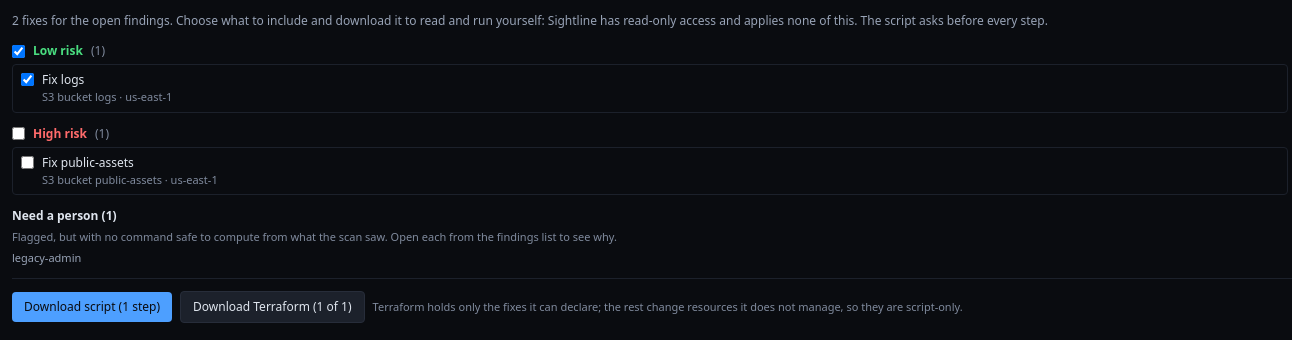
Test: FixPlan › leaves high-risk fixes for a person to choose, and counts what will download
Check: the button "Download script (1 step)" is shown, box [12,292,172,322]
Check: the button "Download Terraform (1 of 1)" is shown, box [180,291,365,323]
Click the checkbox named "Fix public-assets - public-assets": (28, 162) [21,156,34,168]
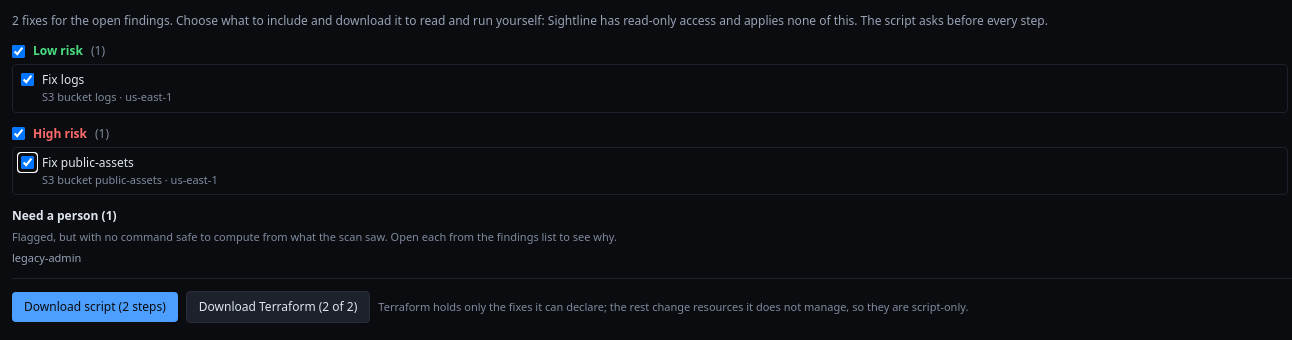
Check: the button "Download script (2 steps)" is shown, box [12,292,178,322]
Check: the button "Download Terraform (2 of 2)" is shown, box [186,291,370,323]
